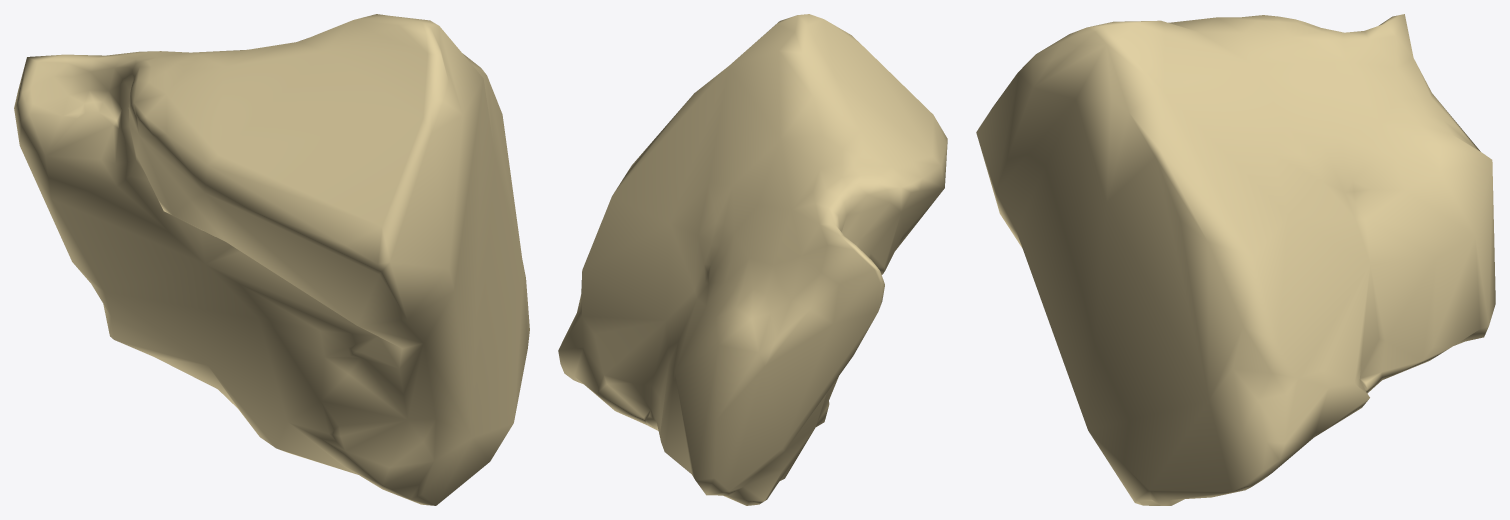
3 renders of one model, left to right at view 1: azimuth 30°, elevation 25°; view 2: azimuth 150°, elevation 25°; view 3: azimuth 270°, elevation 25°, orthographic. The views are drawn at different scales.
Parts seen in each view (by area): view 1: 左侧外侧楔骨; view 2: 左侧外侧楔骨; view 3: 左侧外侧楔骨.
Part boxes in pixels (<box>): 左侧外侧楔骨: <box>14,14,529,505</box>; 左侧外侧楔骨: <box>558,14,947,505</box>; 左侧外侧楔骨: <box>976,14,1495,505</box>.
Size of the model in its own units: 0.0357 by 0.039 by 0.0396.
